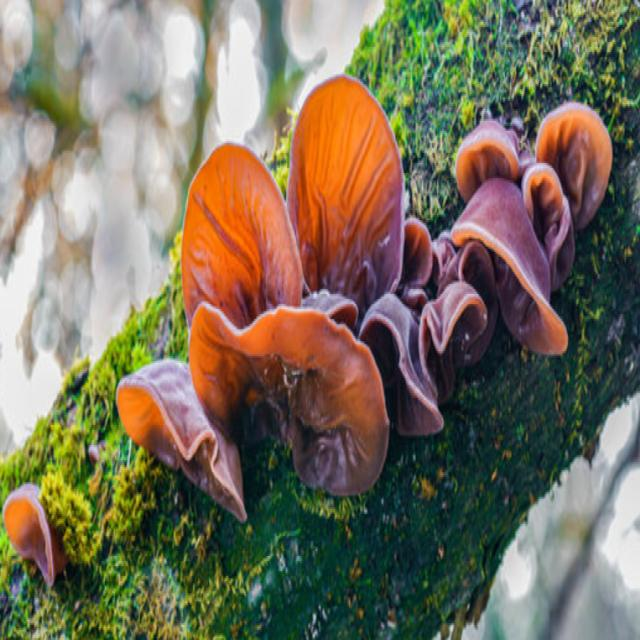Fase Muda: (411, 102, 618, 360), (3, 471, 68, 604)
Matang: (138, 99, 412, 541)
